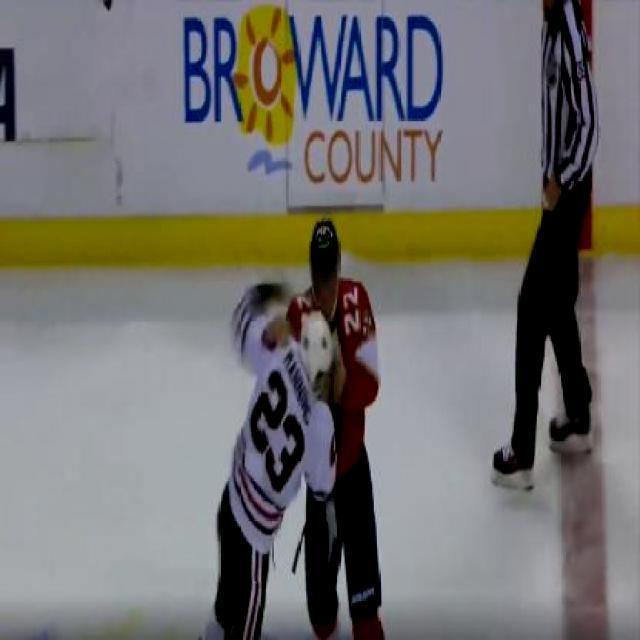fight: (225, 214, 381, 638)
